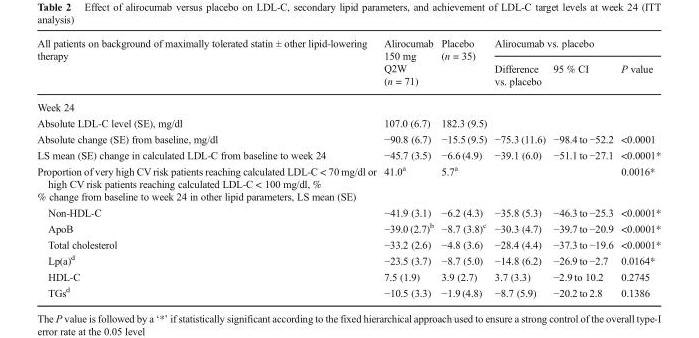table: (36, 36, 660, 298)
table column: (36, 36, 379, 298), (548, 36, 616, 298), (490, 36, 548, 298), (379, 36, 436, 298), (436, 36, 490, 298), (616, 36, 660, 298)
table column header: (36, 36, 660, 93)
table projected row header: (36, 93, 660, 114), (36, 189, 660, 203)
table row: (36, 54, 660, 93), (36, 162, 660, 189), (36, 93, 660, 114), (36, 36, 660, 54), (36, 129, 660, 146), (36, 146, 660, 162), (36, 203, 660, 219), (36, 219, 660, 235), (36, 235, 660, 251), (36, 251, 660, 267), (36, 267, 660, 283), (36, 114, 660, 129), (36, 283, 660, 298), (36, 189, 660, 203)
table spanning cell: (36, 36, 379, 93), (379, 36, 436, 93), (436, 36, 490, 93), (490, 36, 660, 54)
